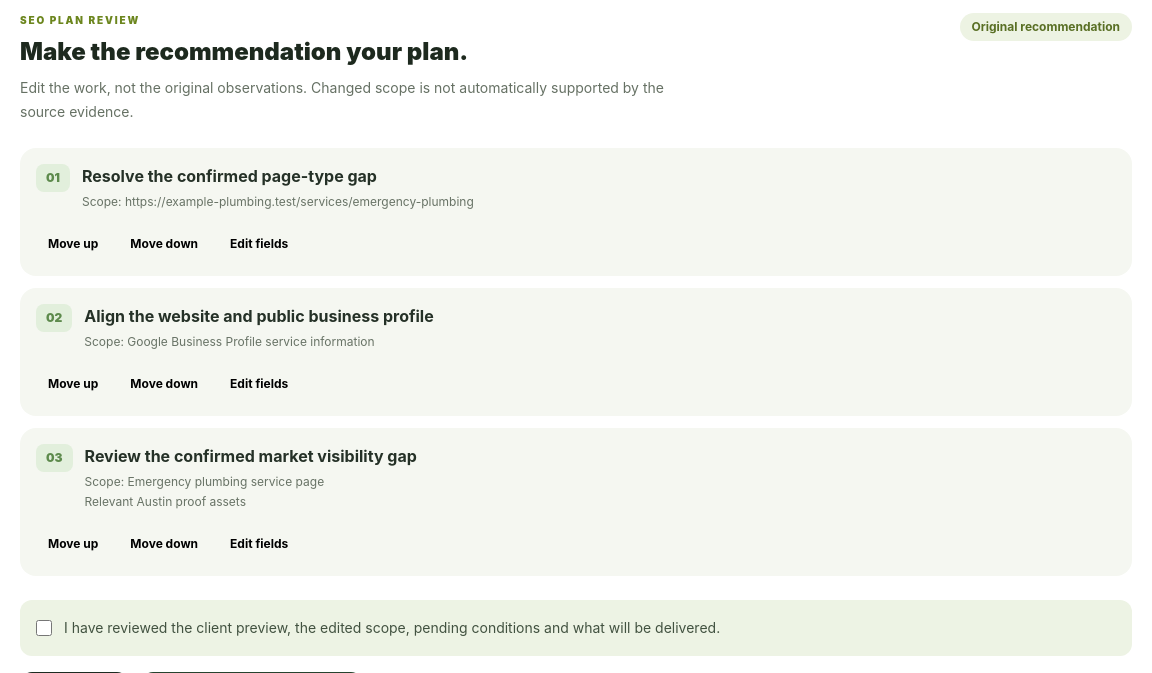
Test case: DeliveryPlanEditor › saves a reordered draft and requires review before approval
The image size is (1152, 673).
Later steps or results of the test are not shown.
What coordinates should you click on to do the following:
click the 2nd button "Move up"
I would click on:
 (73, 384)
Its box is [36, 368, 110, 400].
(page scrolled)
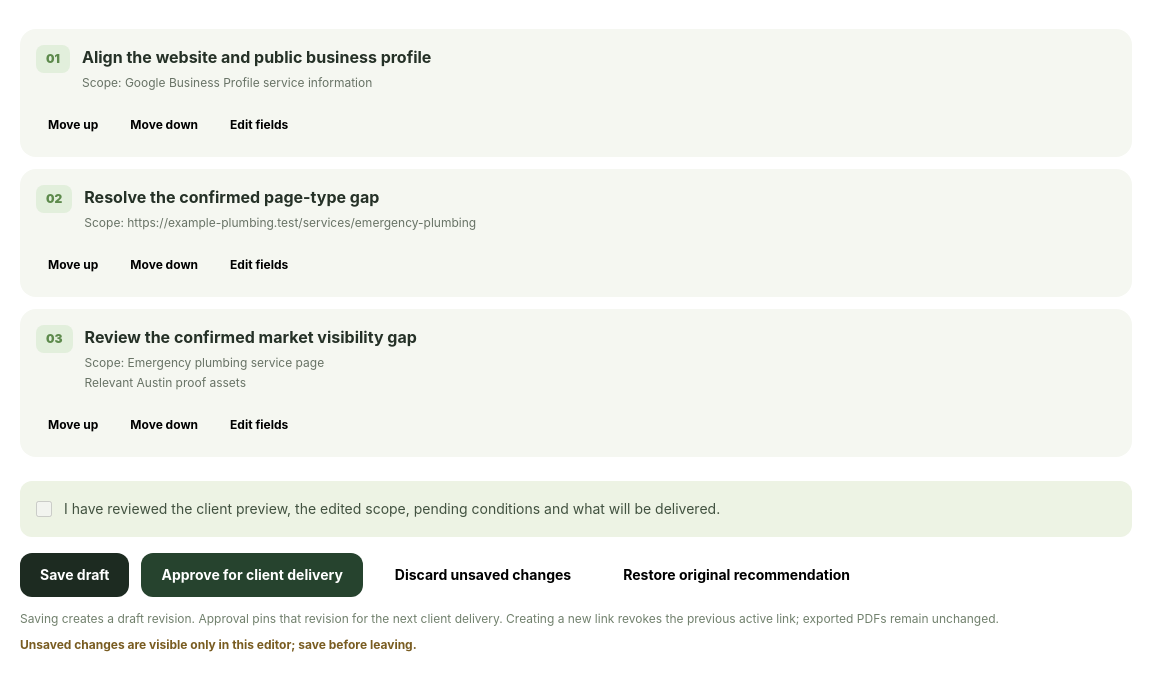
Expected: the button "Approve for client delivery" is disabled, [142, 553, 363, 597]
What coordinates should you click on to do the following:
click the button "Save draft"
I would click on:
 (75, 575)
Its box is [20, 553, 130, 597].
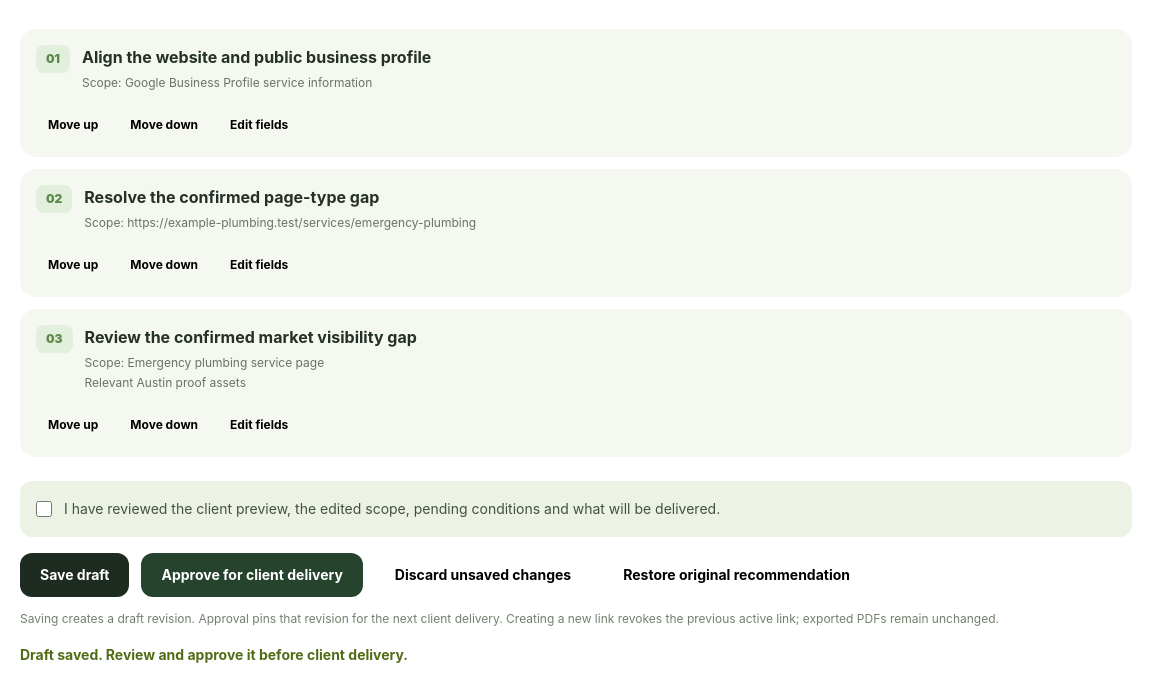
Expected: the text "Draft saved. Review and approve it before client delivery." is shown, [20, 646, 408, 663]
